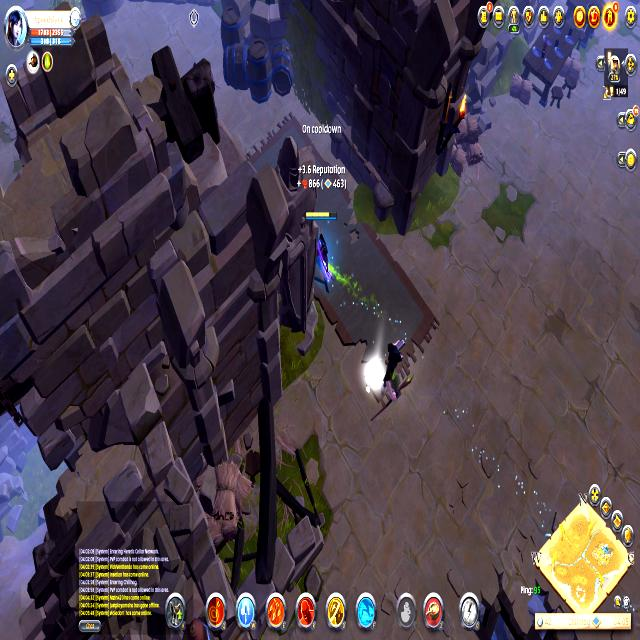red: (303, 205, 337, 279)
stone: (363, 359, 387, 394)
